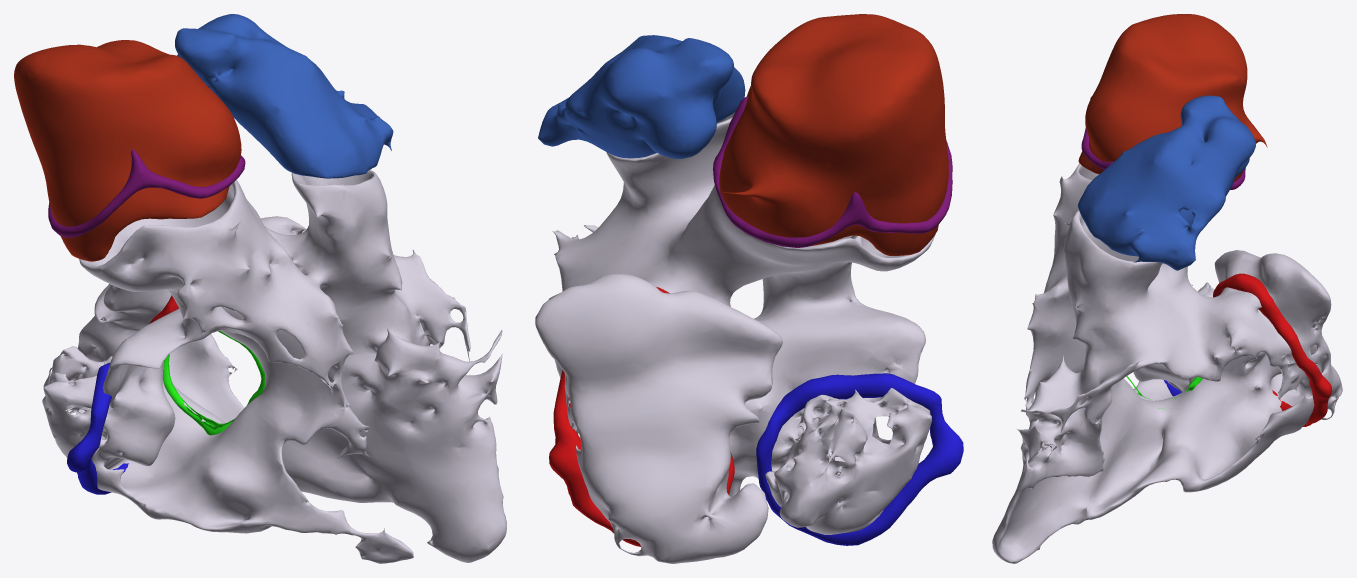
Rendered from DORV-ne-DORV.gltf.
3 renders of one model, left to right at view 1: azimuth 30°, elevation 25°; view 2: azimuth 150°, elevation 25°; view 3: azimuth 270°, elevation 25°, orthographic. The views are drawn at different scales.
Parts seen in each view (by area): view 1: ventricles, aorta, pa, aov, tv, vsd1; view 2: ventricles, aorta, pa, tv, aov, mv; view 3: ventricles, pa, aorta, mv, aov.
Part boxes in pixels (bbox=[...]): ventricles: bbox=[42, 170, 506, 563]; aorta: bbox=[14, 40, 241, 261]; pa: bbox=[175, 14, 393, 178]; aov: bbox=[48, 149, 245, 237]; tv: bbox=[67, 363, 128, 494]; vsd1: bbox=[163, 331, 265, 435]; ventricles: bbox=[535, 112, 935, 563]; aorta: bbox=[719, 14, 948, 255]; pa: bbox=[538, 35, 745, 158]; tv: bbox=[756, 373, 963, 545]; aov: bbox=[713, 96, 952, 247]; mv: bbox=[549, 287, 734, 546]; ventricles: bbox=[992, 163, 1342, 563]; pa: bbox=[1077, 95, 1255, 270]; aorta: bbox=[1078, 14, 1267, 181]; mv: bbox=[1213, 273, 1332, 426]; aov: bbox=[1081, 96, 1245, 189].
Bounding box in the file's own units: 0.0702 × 0.0881 × 0.0665.
